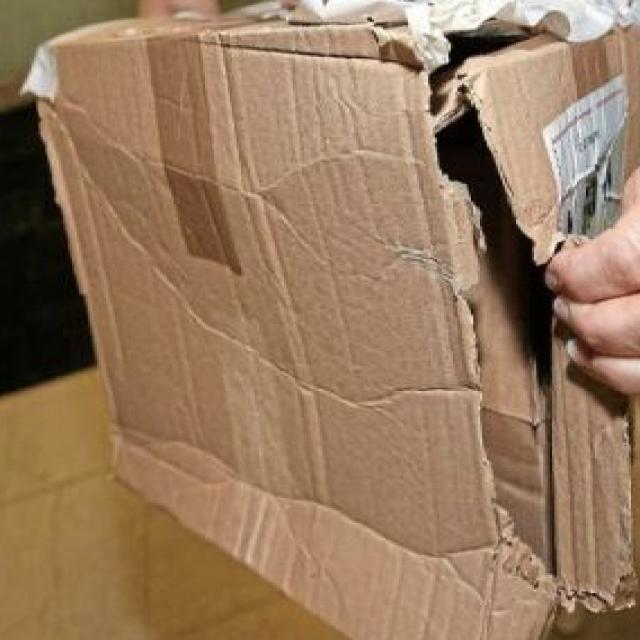hole: (407, 26, 566, 592)
